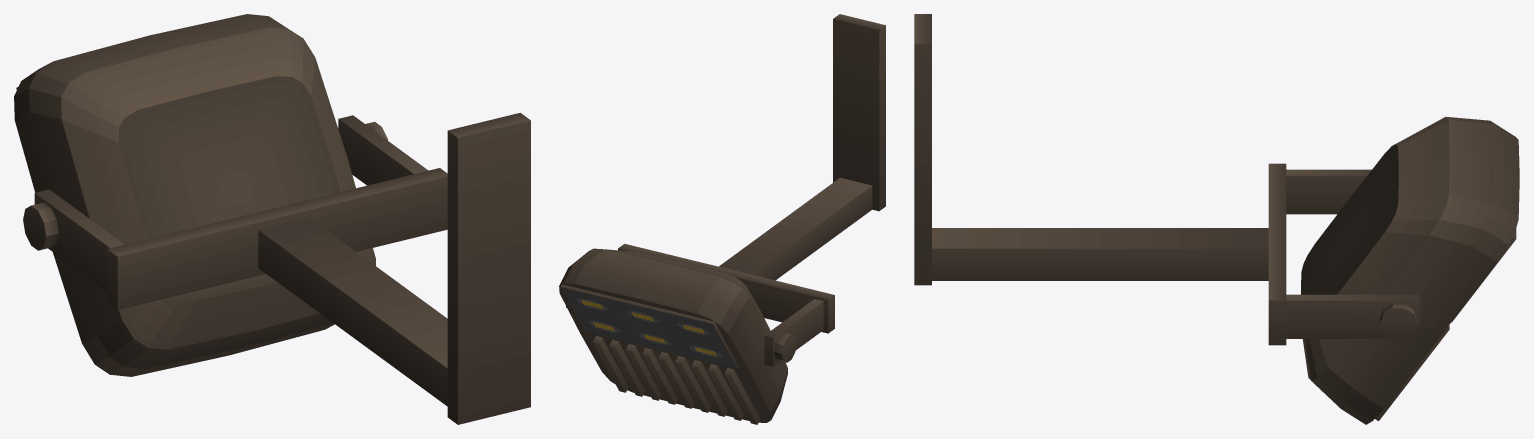
Rendered from floodlight_lithdsxf3yk_x.obj.
The picture shows the model from 3 angles, left to right: view 1: azimuth 30°, elevation 25°; view 2: azimuth 150°, elevation 25°; view 3: azimuth 270°, elevation 25°; orthographic projection. The views are drawn at different scales.
Visible parts, largest first — view 1: fixture; view 2: fixture; view 3: fixture.
Boxes of the visible parts, x1,y1,x2,y2 form: fixture: (14,14,530,424); fixture: (559,14,885,424); fixture: (914,14,1519,424).
Size of the model in its own units: 0.5893 by 0.689 by 1.07.
